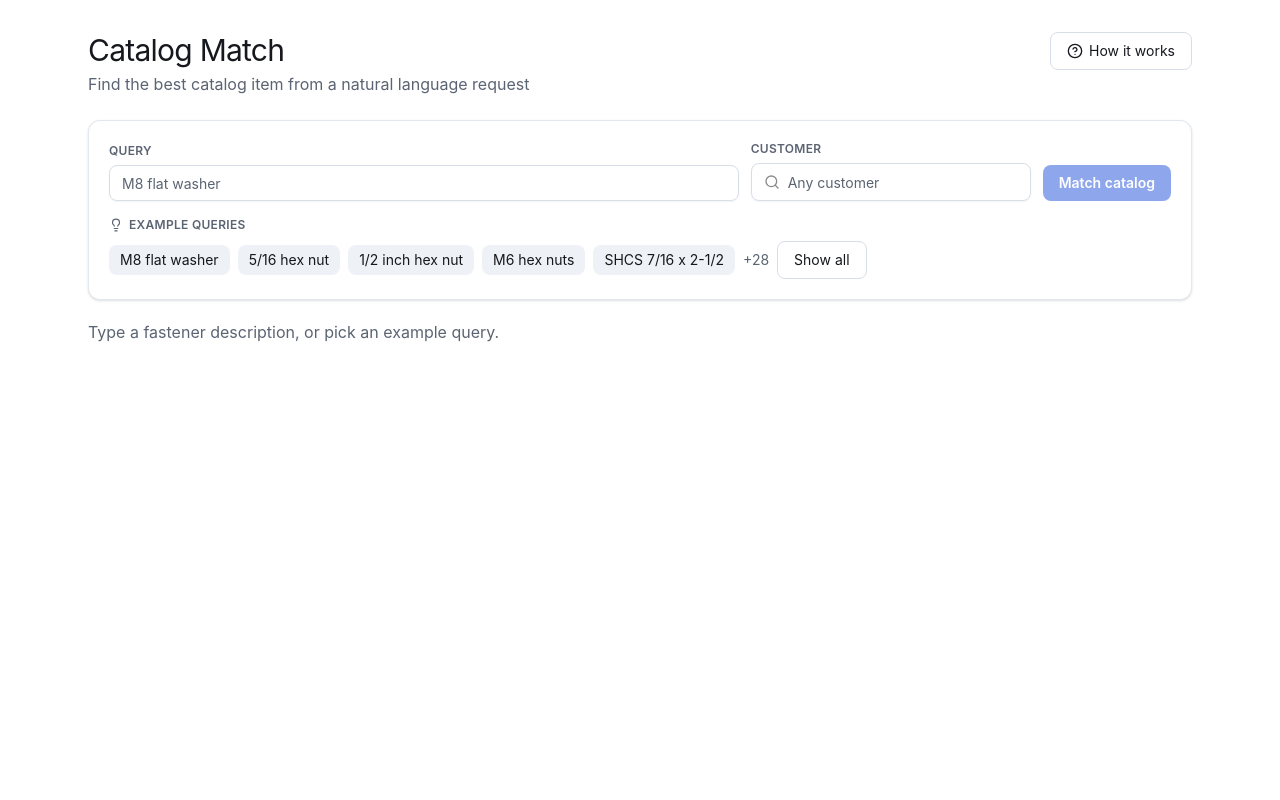
Scenario: what the confidence dialog explains › states the semantics once opened from the header
The image size is (1280, 800).
What coordinates should you click on to do the following:
click the button "How it works"
I would click on:
 (1121, 51)
Its box is [1050,32,1192,70].
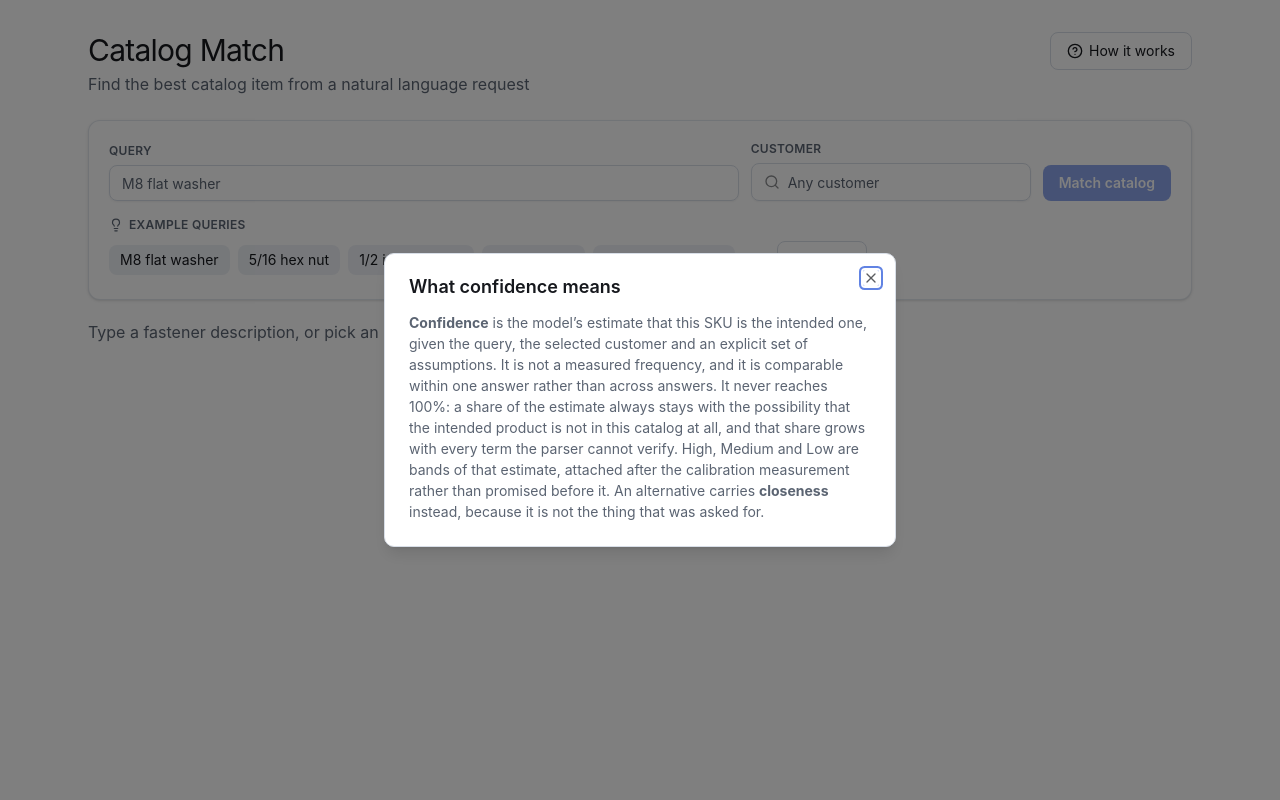
Check: the dialog "confidence" shows "estimate that this SKU is the intended one", box [409,314,867,499]
Check: the dialog "confidence" shows "not a measured frequency", box [409,314,867,499]
Check: the dialog "confidence" shows "never reaches 100%", box [409,314,867,499]
